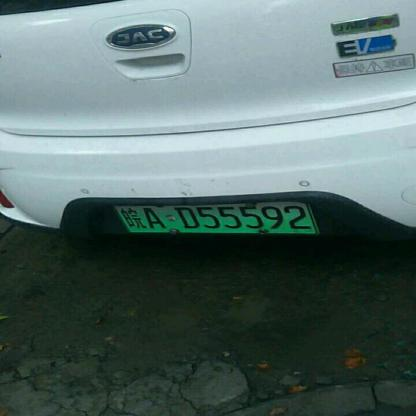lp: (114, 200, 317, 234)
